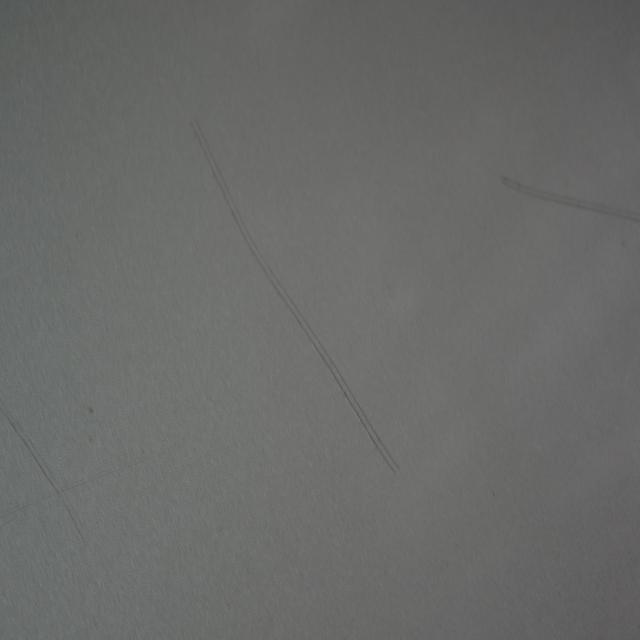scratch: (179, 94, 409, 483), (3, 398, 88, 548), (493, 163, 640, 229)
